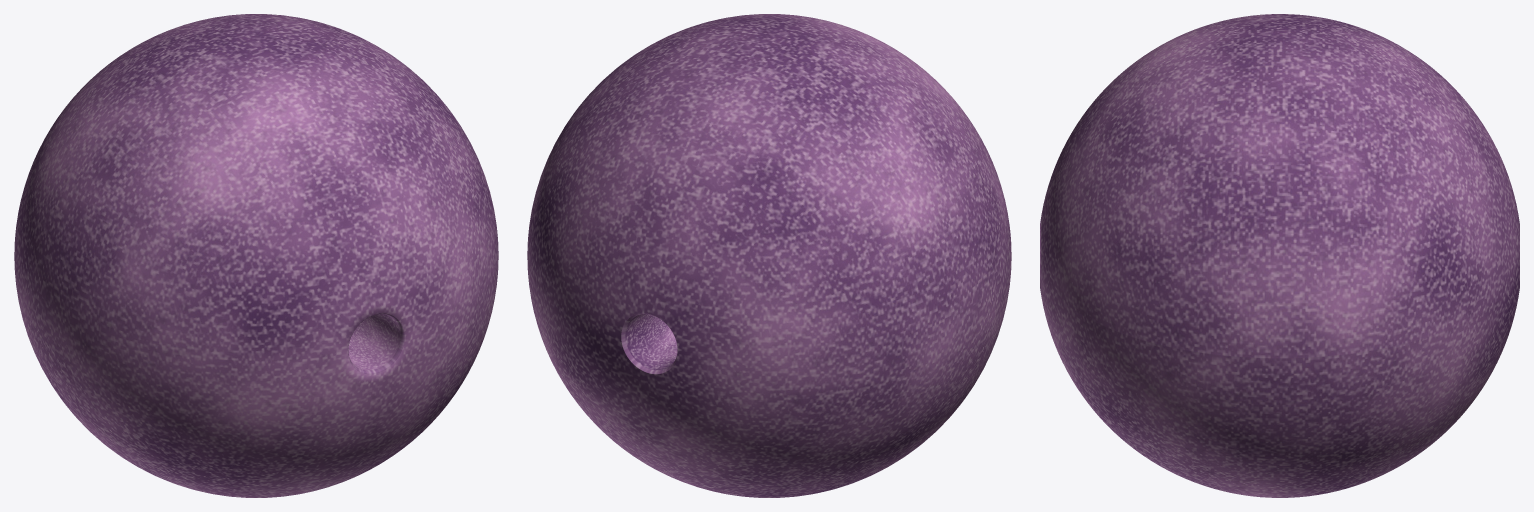
File: lepidolite.glb
The picture shows the model from 3 angles, left to right: view 1: azimuth 30°, elevation 25°; view 2: azimuth 150°, elevation 25°; view 3: azimuth 270°, elevation 25°; orthographic projection.
Visible parts, largest first — view 1: lepidolite.001; view 2: lepidolite.001; view 3: lepidolite.001.
Boxes of the visible parts, left/top/right/bottom form: lepidolite.001: left=14, top=14, right=498, bottom=497; lepidolite.001: left=527, top=14, right=1011, bottom=497; lepidolite.001: left=1040, top=14, right=1519, bottom=497.
Size of the model in its own units: 0.008 by 0.008 by 0.00793.
1 material, 1 textured.
